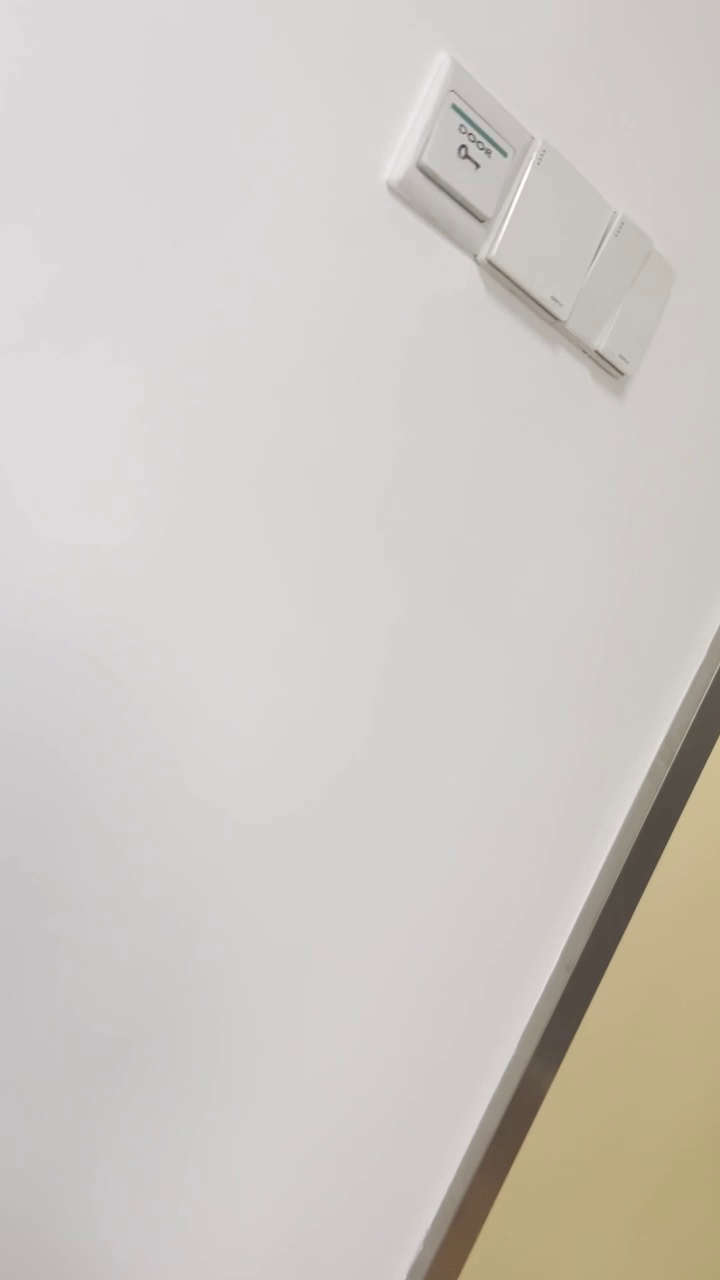button: (489, 132, 610, 332), (558, 211, 674, 383)
